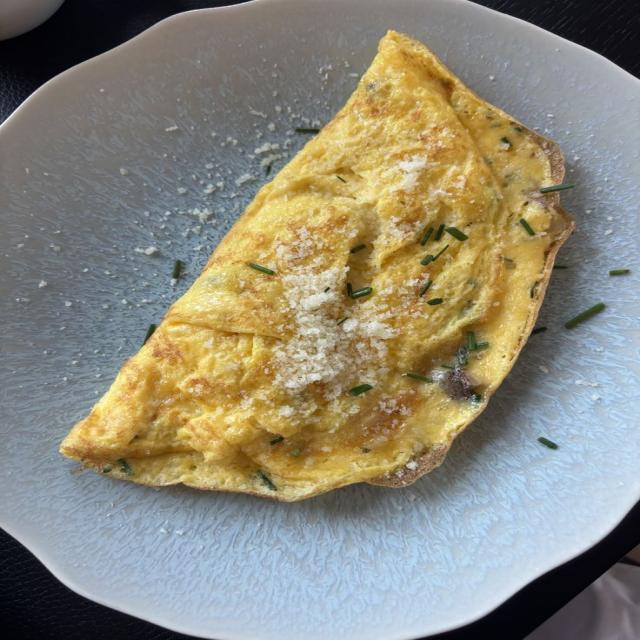omelette: (61, 32, 572, 501)
